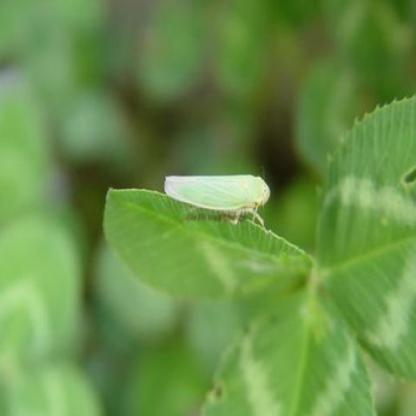Green-Leafhopper: (162, 160, 275, 230)
